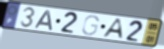2: (123, 19, 145, 45), (59, 11, 81, 37)
3: (19, 6, 37, 29)
A: (100, 18, 124, 41), (33, 10, 53, 32)
G: (81, 14, 101, 37)
